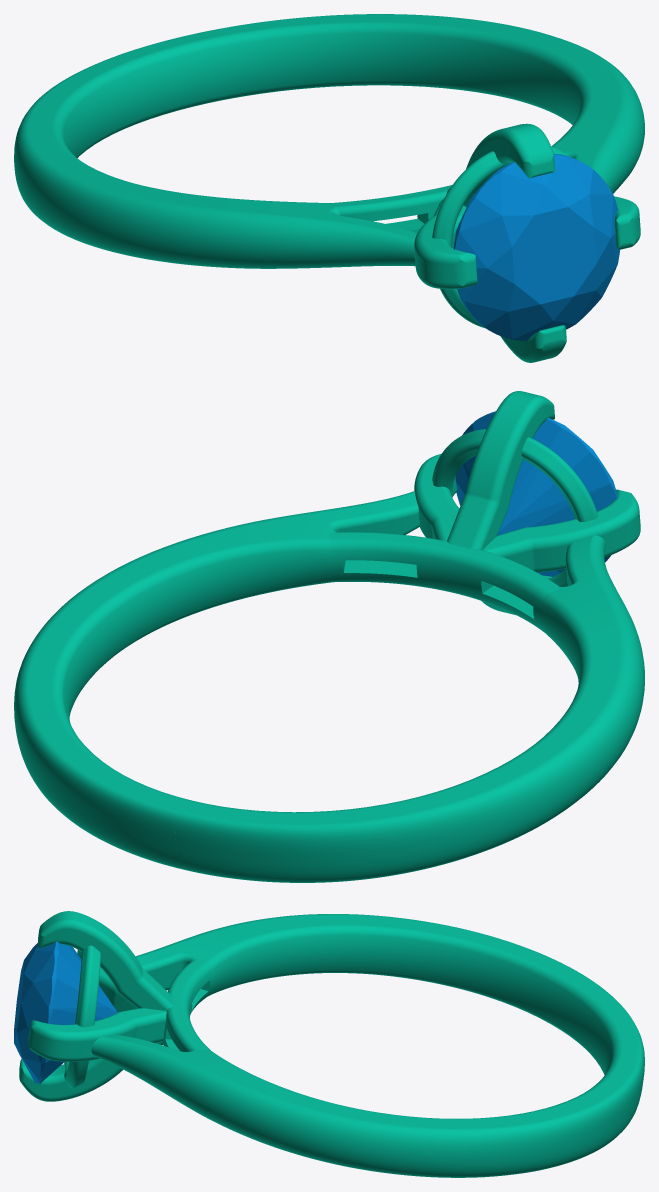
3 renders of one model, top to bottom at view 1: azimuth 30°, elevation 25°; view 2: azimuth 150°, elevation 25°; view 3: azimuth 270°, elevation 25°, orthographic. The views are drawn at different scales.
Parts seen in each view (by area): view 1: VSR-1007(base).3dm, Diamond_Round; view 2: VSR-1007(base).3dm, Diamond_Round; view 3: VSR-1007(base).3dm, Diamond_Round.
Part boxes in pixels (x1,y1,x2,y2): VSR-1007(base).3dm: (14,14,644,362); Diamond_Round: (453,153,619,340); VSR-1007(base).3dm: (14,391,644,882); Diamond_Round: (455,411,618,576); VSR-1007(base).3dm: (19,911,644,1177); Diamond_Round: (14,941,117,1083).
Size of the model in its own units: 2.47 by 0.9595 by 3.
